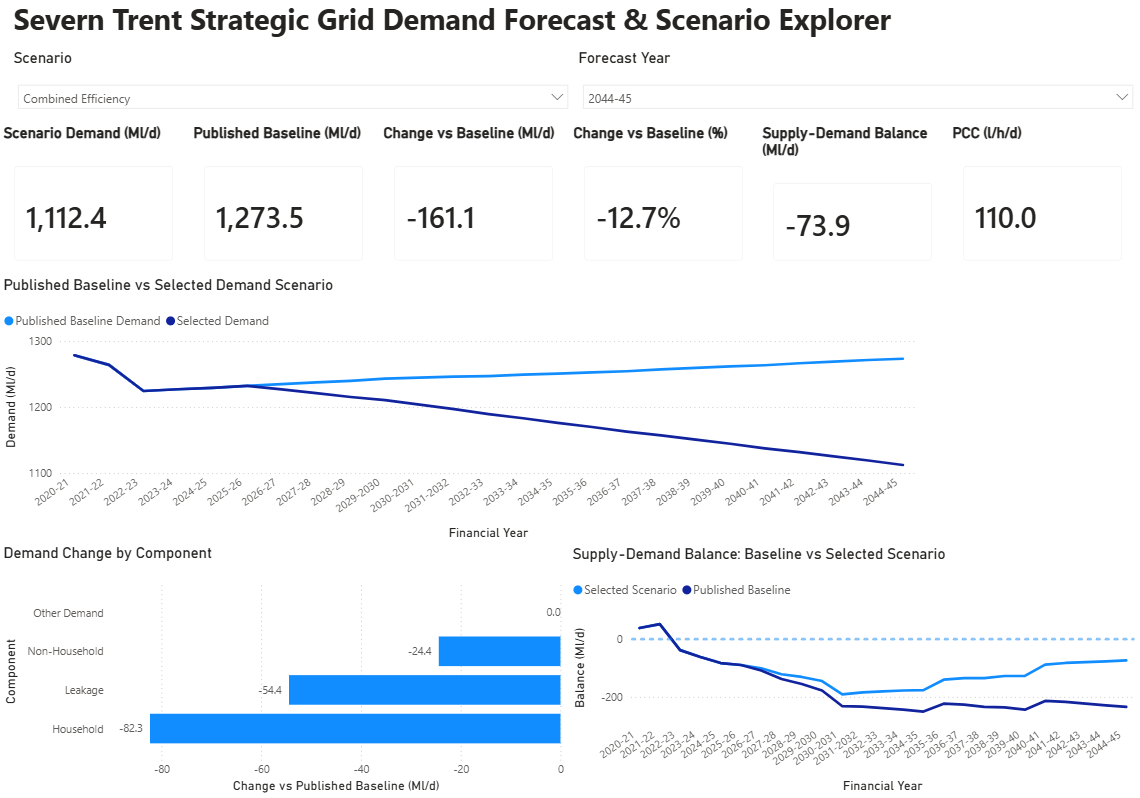

This screenshot's page, from the dashboard's own definition file:
{"tool":"powerbi","page":{"name":"Demand Scenario Explorer","canvas":[1280,900],"ordinal":0},"visuals":[{"type":"textbox","box":[10.8,0,1269.2,61.5],"z":0},{"type":"slicer","title":"Scenario","fields":{"Values":["Demand Scenarios.scenario_name"]},"box":[10.8,61.5,636.4,83.2],"z":1000},{"type":"slicer","title":"Forecast Year","fields":{"Values":["Demand Scenarios.financial_year"]},"box":[643.6,61.5,636.4,83.2],"z":2000},{"type":"cardVisual","title":"Scenario Demand (Ml/d)","fields":{"Data":["Demand Scenarios.Scenario Demand Display"]},"box":[0,145,212.5,170],"z":3000},{"type":"cardVisual","title":"Published Baseline (Ml/d)","fields":{"Data":["Demand Scenarios.Published Baseline Display"]},"box":[212.5,145,212.5,170],"z":4000},{"type":"cardVisual","title":"Change vs Baseline (Ml/d)","fields":{"Data":["Demand Scenarios.Demand Change vs Baseline"]},"box":[425,145,212.5,170],"z":5000},{"type":"cardVisual","title":"Change vs Baseline (%)","fields":{"Data":["Demand Scenarios.Demand Change %"]},"box":[637.5,145,212.5,170],"z":6000},{"type":"cardVisual","title":"PCC (l/h/d)","fields":{"Data":["Demand Scenarios.Selected PCC"]},"box":[1062.5,145,212.5,170],"z":7000},{"type":"cardVisual","title":"Supply-Demand Balance (Ml/d)","fields":{"Data":["Demand Scenarios.Selected SDB"]},"box":[850,145,212.5,170],"z":8000},{"type":"lineChart","title":"Published Baseline vs Selected Demand Scenario","fields":{"Category":["Demand Scenarios.financial_year"],"Y":["Demand Scenarios.Published Baseline Demand","Demand Scenarios.Selected Demand"]},"box":[0,315.4,1032.2,301.1],"z":9000},{"type":"clusteredBarChart","title":"Demand Change by Component","fields":{"Y":["Demand Scenarios.Component Demand Change"],"Category":["Demand Components.Component"]},"box":[0,615.9,637.5,283.9],"z":10000},{"type":"lineChart","title":"Supply-Demand Balance: Baseline vs Selected Scenario","fields":{"Category":["Demand Scenarios.financial_year"],"Y":["Demand Scenarios.Selected SDB","Demand Scenarios.Published Baseline SDB"]},"box":[636.9,616.4,639,282.6],"z":11000}]}

Visuals, with their boxes in screenshot pixels (x1, y1, x2, y2), scaled from the page's 1280x900 canvas onto the 1140x798 screenshot:
textbox: 10 0 1139 55
"Scenario" slicer: 10 55 576 128
"Forecast Year" slicer: 573 55 1139 128
"Scenario Demand (Ml/d)" cardVisual: 0 129 189 279
"Published Baseline (Ml/d)" cardVisual: 189 129 379 279
"Change vs Baseline (Ml/d)" cardVisual: 379 129 568 279
"Change vs Baseline (%)" cardVisual: 568 129 757 279
"PCC (l/h/d)" cardVisual: 946 129 1136 279
"Supply-Demand Balance (Ml/d)" cardVisual: 757 129 946 279
"Published Baseline vs Selected Demand Scenario" lineChart: 0 280 919 547
"Demand Change by Component" clusteredBarChart: 0 546 568 797
"Supply-Demand Balance: Baseline vs Selected Scenario" lineChart: 567 547 1136 797
